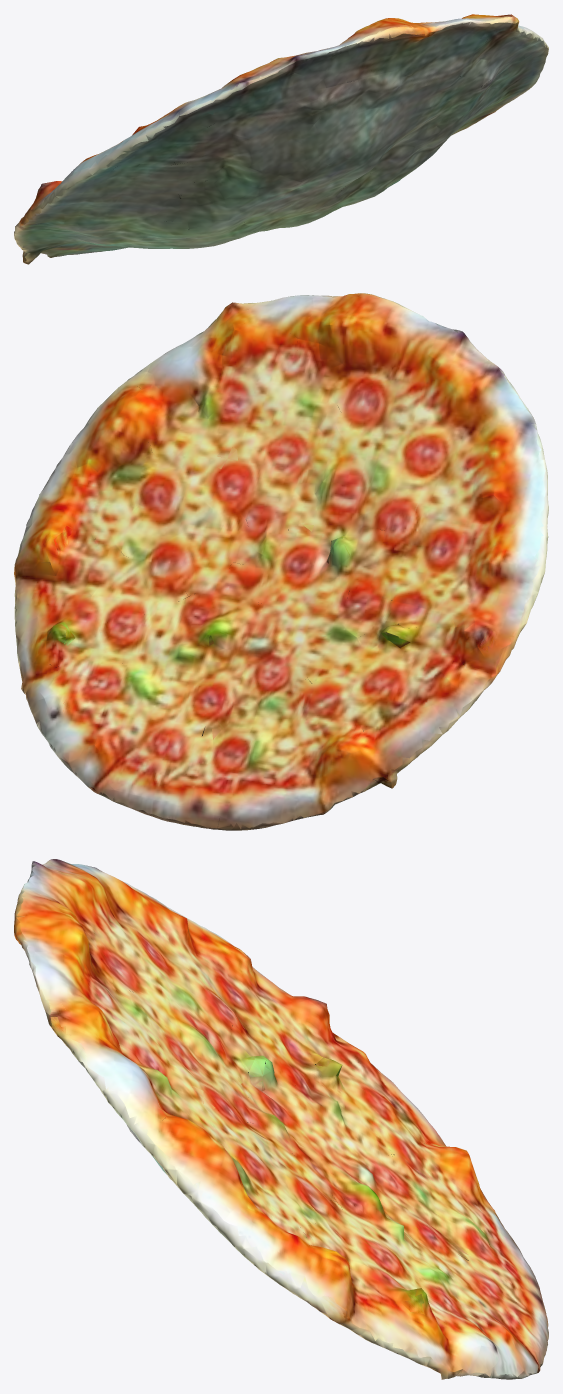
File: SPAR3D_result_20250724_153646.glb
3 renders of one model, top to bottom at view 1: azimuth 30°, elevation 25°; view 2: azimuth 150°, elevation 25°; view 3: azimuth 270°, elevation 25°, orthographic. The views are drawn at different scales.
Parts seen in each view (by area): view 1: world; view 2: world; view 3: world.
Part boxes in pixels (left/top/right/bottom): world: left=14, top=14, right=548, bottom=264; world: left=14, top=293, right=548, bottom=830; world: left=14, top=859, right=548, bottom=1379.
Size of the model in its own units: 1 by 0.7153 by 0.7884.
Materials: 1 (1 with a texture image).
